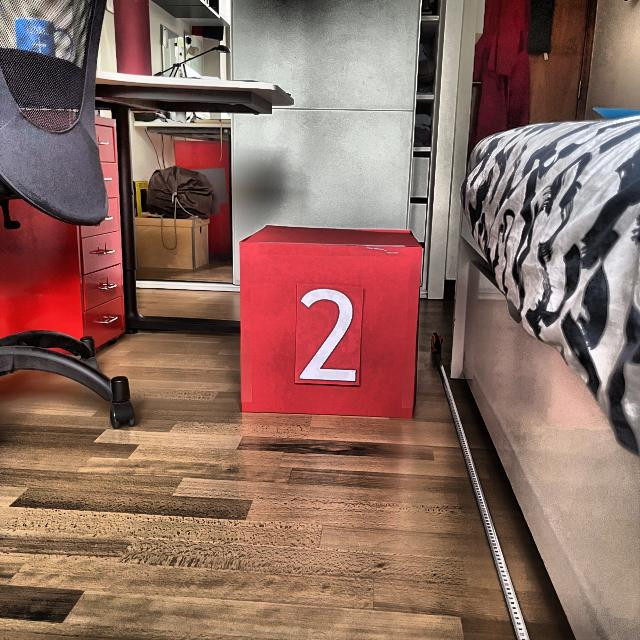red box: (243, 229, 417, 413)
two: (298, 287, 360, 386)
